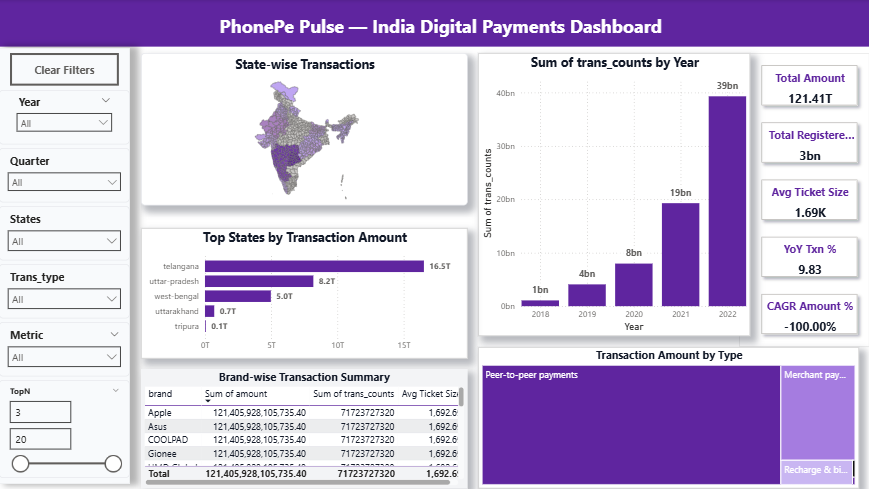

This screenshot's page, from the dashboard's own definition file:
{"tool":"powerbi","page":{"name":"Page 1","canvas":[1280,720],"ordinal":0},"visuals":[{"type":"shape","box":[0,0,1280,70],"z":0},{"type":"textbox","box":[304,16,688,48],"z":1000},{"type":"shape","box":[0,72,192,640],"z":2000},{"type":"slicer","fields":{"Values":["Dim_Year.Year"]},"box":[0,133.3,192,80],"z":3000},{"type":"slicer","fields":{"Values":["Dim_Date.Quarter"]},"box":[0,218.7,192,80],"z":4000},{"type":"slicer","fields":{"Values":["Dim_Geo.states"]},"box":[0,304,192,80],"z":5000},{"type":"slicer","fields":{"Values":["aggregated_transaction.trans_type"]},"box":[0,389.3,192,80],"z":6000},{"type":"slicer","fields":{"Values":["Table.Metric"]},"box":[0,474.7,192,80],"z":7000},{"type":"slicer","fields":{"Values":["TopN.TopN"]},"box":[0,560,192,144],"z":8000},{"type":"cardVisual","fields":{"Data":["Measure.Total Amount","Measure.Total Registered Users","Measure.Avg Ticket Size","Measure.YoY Txn %","Measure.CAGR Amount %"]},"box":[1088,80,192,432],"z":9000},{"type":"shapeMap","title":"State-wise Transactions","fields":{"Category":["Dim_Geo.states"],"Value":["Measure.Total Amount"]},"box":[208,80,480,224],"z":10000},{"type":"lineClusteredColumnComboChart","fields":{"Category":["Dim_Year.Year"],"Y":["Sum(map_transaction.trans_counts)"]},"box":[704,80,400,416],"z":11000},{"type":"clusteredBarChart","title":"Top States by Transaction  Amount","fields":{"Category":["Dim_Geo.states"],"Y":["Sum(map_transaction.amount)"]},"box":[208,336,480,192],"z":12000},{"type":"treemap","title":"Transaction Amount by Type","fields":{"Group":["aggregated_transaction.trans_type"],"Values":["Sum(aggregated_transaction.amount)"]},"box":[704,512,560,208],"z":13000},{"type":"tableEx","title":"Brand-wise Transaction Summary","fields":{"Values":["aggregated_user.brand","Sum(aggregated_transaction.amount)","Sum(aggregated_transaction.trans_counts)","Measure.Avg Ticket Size"]},"box":[208,544,480,176],"z":14000},{"type":"actionButton","box":[16,80,160,48],"z":15000}]}

Visuals, with their boxes in screenshot pixels (x1, y1, x2, y2), scaled from the page's 1280x720 canvas onto the 869x489 screenshot:
shape: rect(0, 0, 868, 48)
textbox: rect(206, 11, 673, 43)
shape: rect(0, 49, 130, 484)
slicer - Dim_Year.Year: rect(0, 91, 130, 145)
slicer - Dim_Date.Quarter: rect(0, 149, 130, 203)
slicer - Dim_Geo.states: rect(0, 206, 130, 261)
slicer - aggregated_transaction.trans_type: rect(0, 264, 130, 319)
slicer - Table.Metric: rect(0, 322, 130, 377)
slicer - TopN.TopN: rect(0, 380, 130, 478)
cardVisual - Measure.Total Amount x Measure.Total Registered Users: rect(739, 54, 868, 348)
"State-wise Transactions" shapeMap: rect(141, 54, 467, 206)
lineClusteredColumnComboChart - Dim_Year.Year x Sum(map_transaction.trans_counts): rect(478, 54, 750, 337)
"Top States by Transaction  Amount" clusteredBarChart: rect(141, 228, 467, 359)
"Transaction Amount by Type" treemap: rect(478, 348, 858, 488)
"Brand-wise Transaction Summary" tableEx: rect(141, 369, 467, 488)
actionButton: rect(11, 54, 119, 87)
